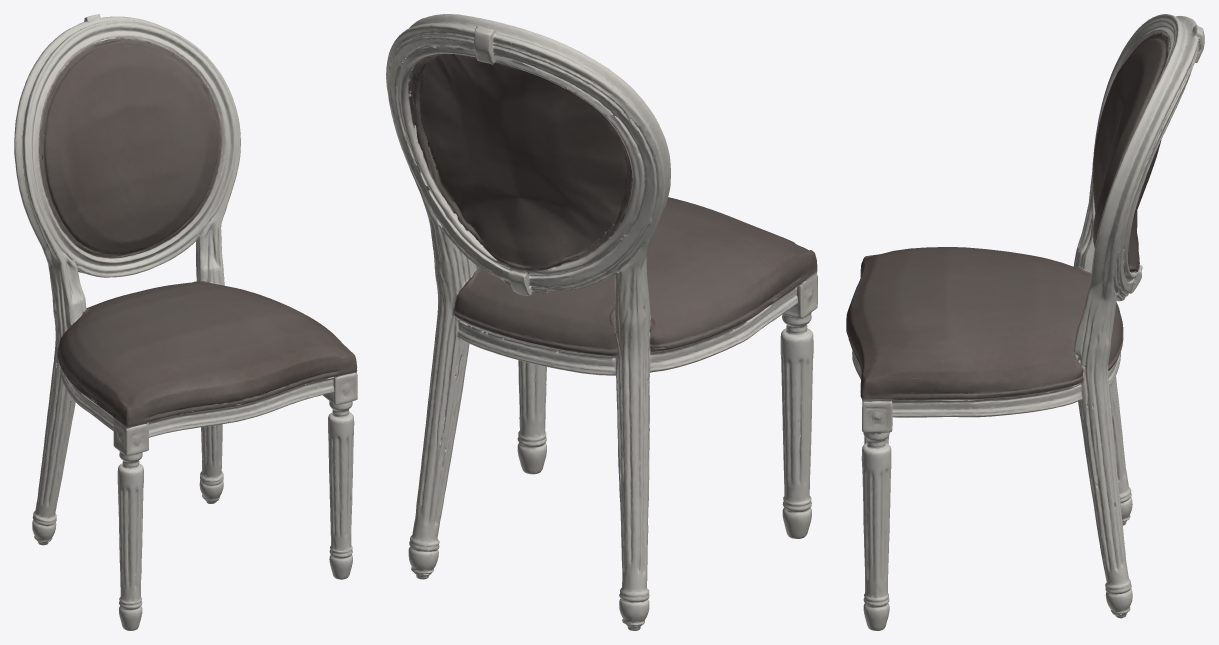
Rendered from Neoclassical Oval Back Armless Chair [WrmwLv].glb.
3 renders of one model, left to right at view 1: azimuth 30°, elevation 25°; view 2: azimuth 150°, elevation 25°; view 3: azimuth 270°, elevation 25°, orthographic. The views are drawn at different scales.
Parts seen in each view (by area): view 1: world; view 2: world; view 3: world.
Part boxes in pixels (bbox=[...]): world: bbox=[14, 14, 357, 630]; world: bbox=[386, 14, 817, 630]; world: bbox=[846, 14, 1204, 630].
Bounding box in the file's own units: 0.5057 × 1 × 0.6002.
1 material, 1 textured.
